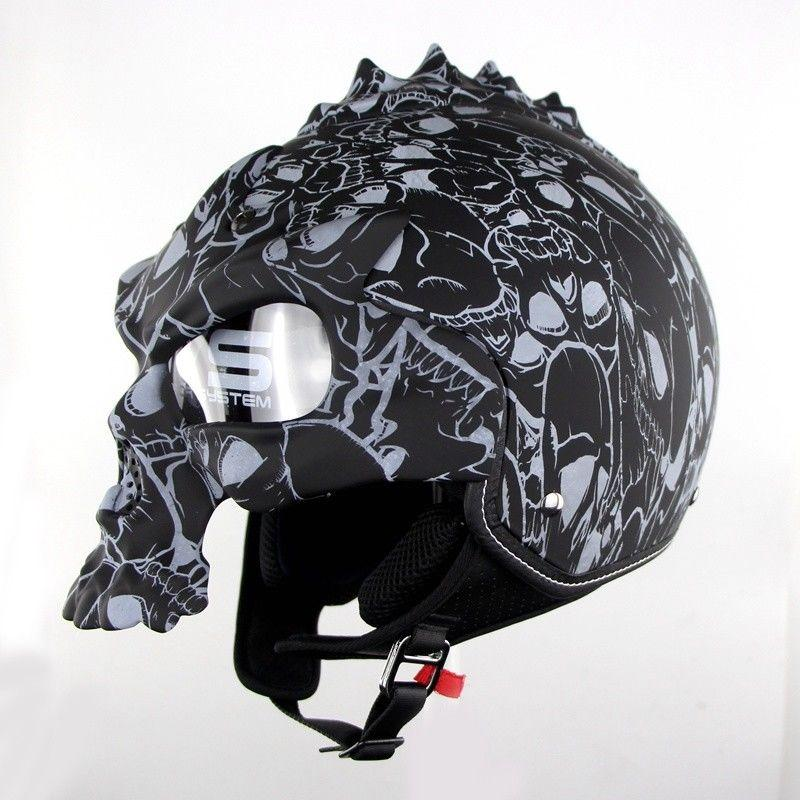with_helmet: (69, 34, 723, 702)
